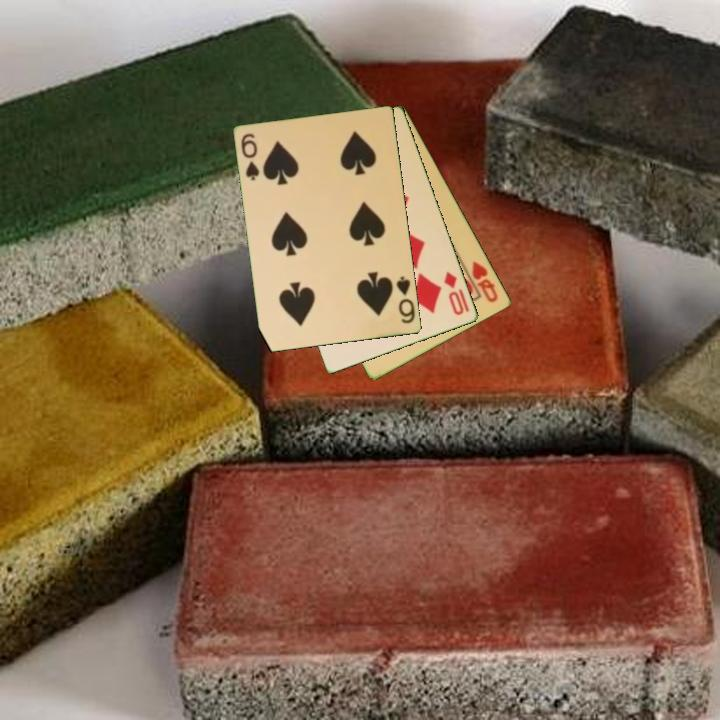10d: (441, 268, 467, 318)
6s: (393, 273, 418, 327), (238, 130, 263, 183)
Qh: (469, 257, 501, 306)
